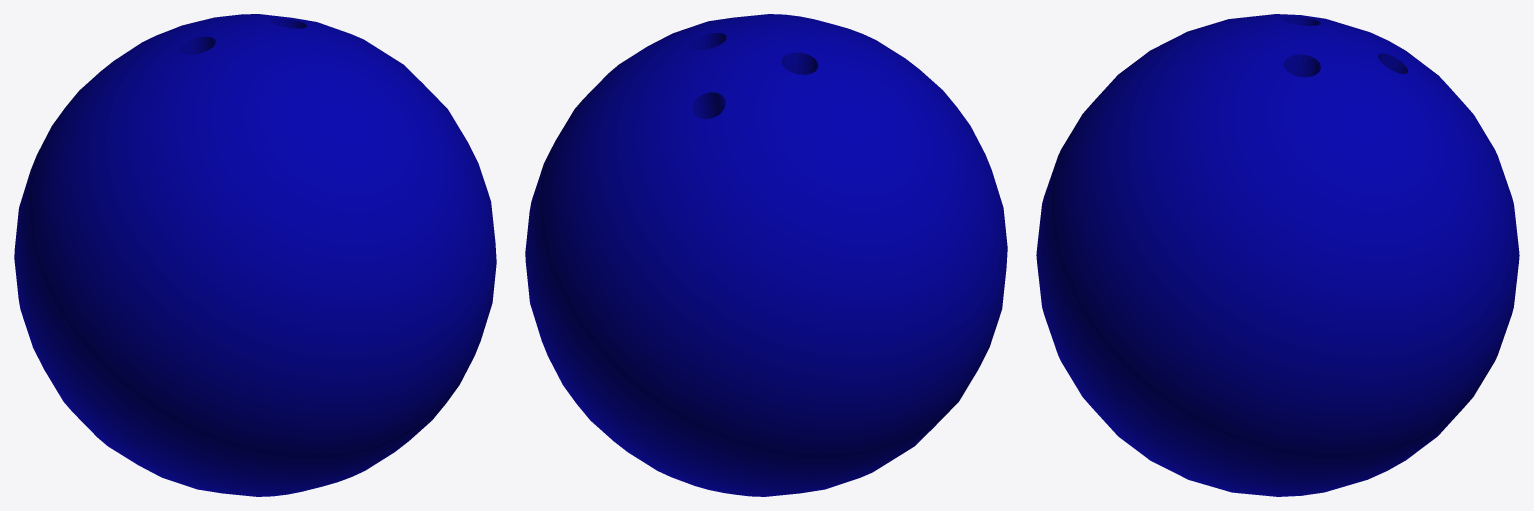
The model's file is bola.gltf.
3 renders of one model, left to right at view 1: azimuth 30°, elevation 25°; view 2: azimuth 150°, elevation 25°; view 3: azimuth 270°, elevation 25°, orthographic.
Parts seen in each view (by area): view 1: Cube.001; view 2: Cube.001; view 3: Cube.001.
Boxes of the visible parts, x1,y1,x2,y2 form: Cube.001: (14,14,496,496); Cube.001: (525,14,1007,496); Cube.001: (1036,14,1519,496).
Size of the model in its own units: 0.3289 by 0.3289 by 0.3289.
